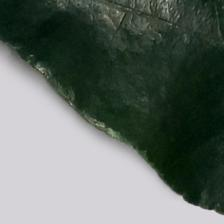healthy: (2, 6, 224, 142)
